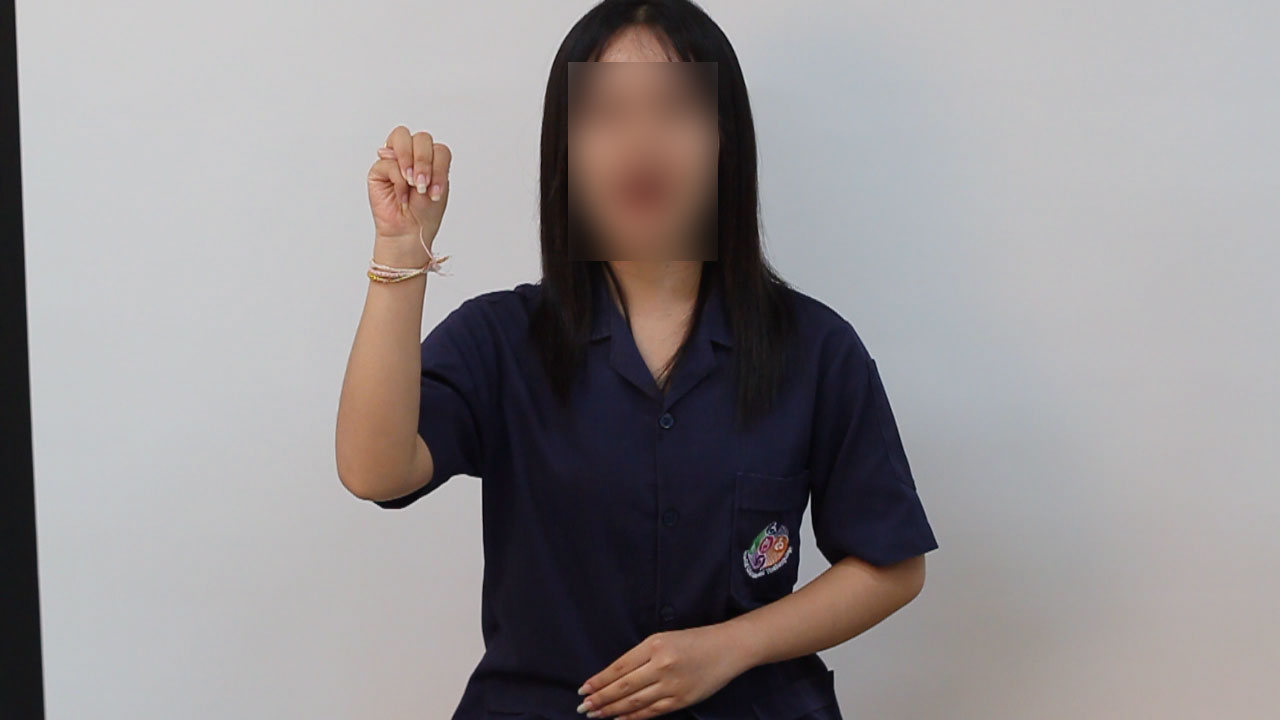mor: (355, 115, 461, 248)
